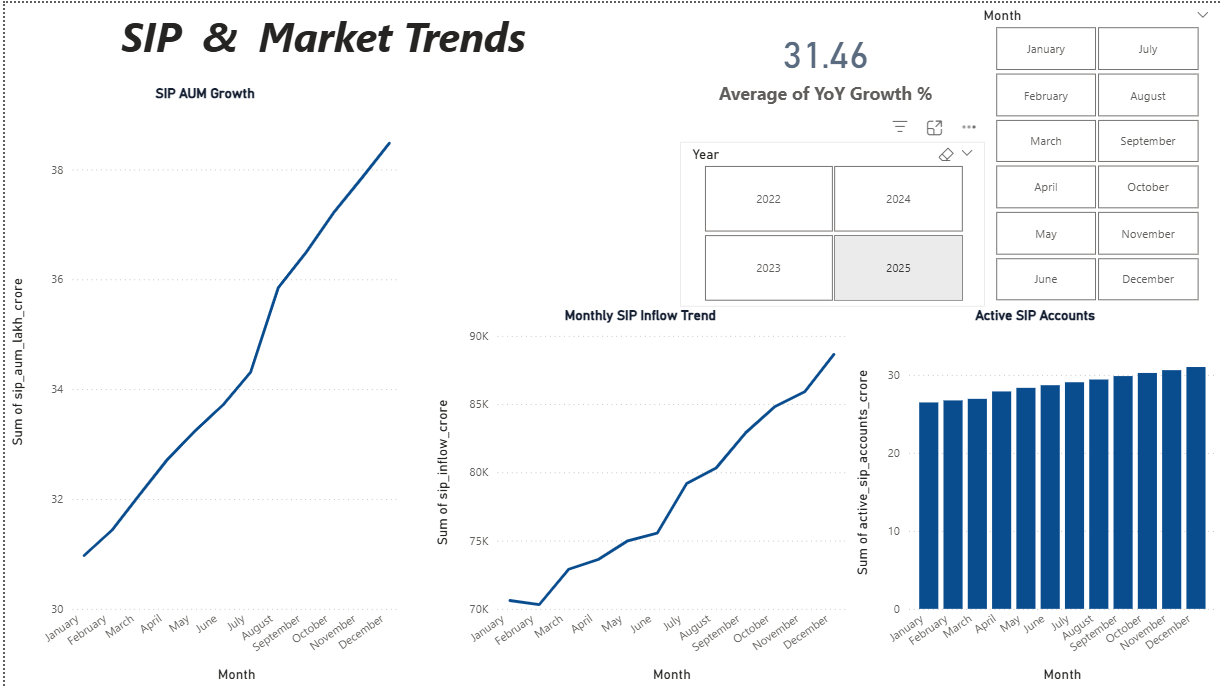

The page's visual inventory and layout, read from the dashboard file:
{"tool":"powerbi","page":{"name":"SIP & Market Trends","canvas":[1280,720],"ordinal":3},"visuals":[{"type":"lineChart","title":"Monthly SIP Inflow Trend","fields":{"Category":["SIP.month.Variation.Date Hierarchy.Month"],"Y":["Sum(SIP.sip_inflow_crore)"]},"box":[447.1,320,442.9,400],"z":0},{"type":"clusteredColumnChart","title":"Active SIP Accounts","fields":{"Category":["SIP.month.Variation.Date Hierarchy.Month"],"Y":["Sum(SIP.active_sip_accounts_crore)"]},"box":[890,320,390,400],"z":1000},{"type":"lineChart","title":"SIP AUM Growth","fields":{"Category":["SIP.month.Variation.Date Hierarchy.Month"],"Y":["Sum(SIP.sip_aum_lakh_crore)"]},"box":[0,87.1,421.4,632.9],"z":2000},{"type":"card","fields":{"Values":["Avg(SIP.yoy_growth_pct)"]},"box":[710,0,306.7,128.3],"z":3000},{"type":"slicer","fields":{"Values":["SIP.month.Variation.Date Hierarchy.Month"]},"box":[1017.1,0,262.9,320],"z":4000},{"type":"slicer","fields":{"Values":["SIP.month.Variation.Date Hierarchy.Year"]},"box":[710,145.7,321.4,174.3],"z":5000},{"type":"textbox","box":[0,0,670,87.1],"z":6000}]}

Visuals, with their boxes in screenshot pixels (x1, y1, x2, y2), scaled from the page's 1280x720 canvas onto the 1221x687 screenshot:
"Monthly SIP Inflow Trend" lineChart: 426,305,849,686
"Active SIP Accounts" clusteredColumnChart: 849,305,1220,686
"SIP AUM Growth" lineChart: 0,83,402,686
card - Avg(SIP.yoy_growth_pct): 677,0,970,122
slicer - SIP.month.Variation.Date Hierarchy.Month: 970,0,1220,305
slicer - SIP.month.Variation.Date Hierarchy.Year: 677,139,984,305
textbox: 0,0,639,83
